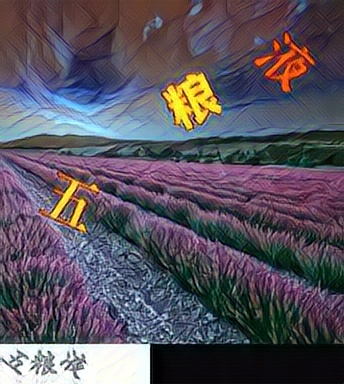C1B8: (159, 69, 224, 134)
CEE5: (36, 169, 101, 234)
D2BA: (251, 28, 316, 93)
